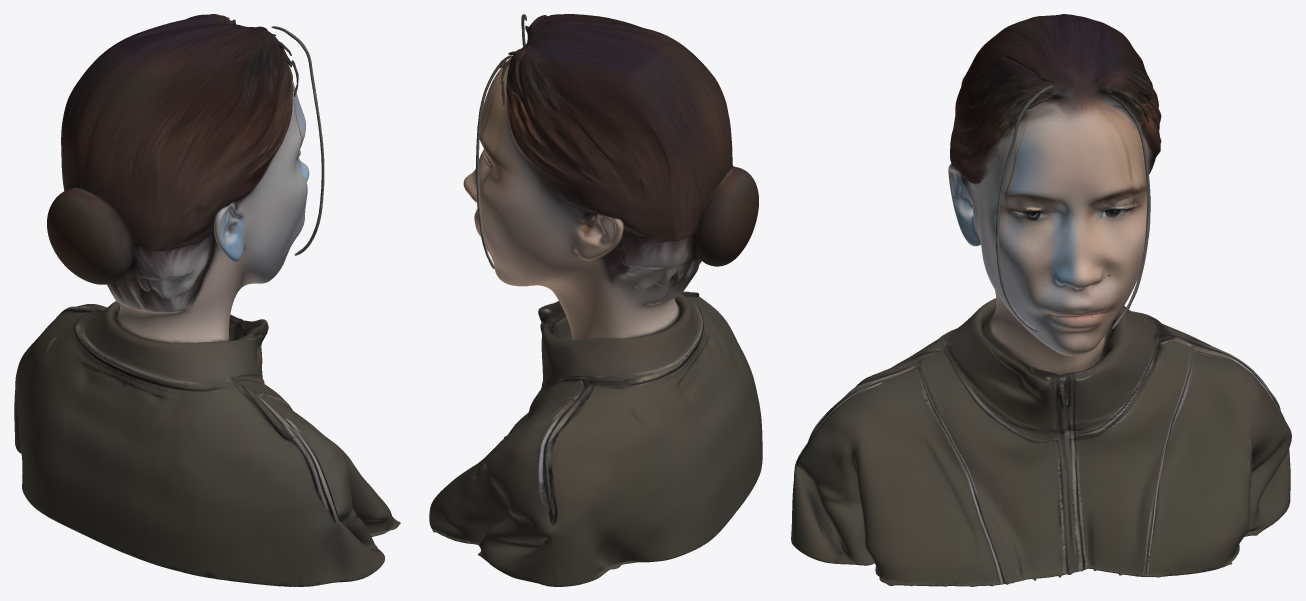
The model's file is tripo_pbr_model_f8c8bdcd-c90c-_48addefa_opt.glb.
3 renders of one model, left to right at view 1: azimuth 30°, elevation 25°; view 2: azimuth 150°, elevation 25°; view 3: azimuth 270°, elevation 25°, orthographic. The views are drawn at different scales.
Parts seen in each view (by area): view 1: tripo_node_f8c8bdcd-c90c-4fdb-8e91-ad2a16d1287c; view 2: tripo_node_f8c8bdcd-c90c-4fdb-8e91-ad2a16d1287c; view 3: tripo_node_f8c8bdcd-c90c-4fdb-8e91-ad2a16d1287c.
Part boxes in pixels (x1,y1,x2,y2): tripo_node_f8c8bdcd-c90c-4fdb-8e91-ad2a16d1287c: (14, 14, 400, 586); tripo_node_f8c8bdcd-c90c-4fdb-8e91-ad2a16d1287c: (429, 14, 762, 586); tripo_node_f8c8bdcd-c90c-4fdb-8e91-ad2a16d1287c: (791, 14, 1291, 586).
Bounding box in the file's own units: 0.6123 × 1 × 0.9328.
Materials: 1 (1 with a texture image).
